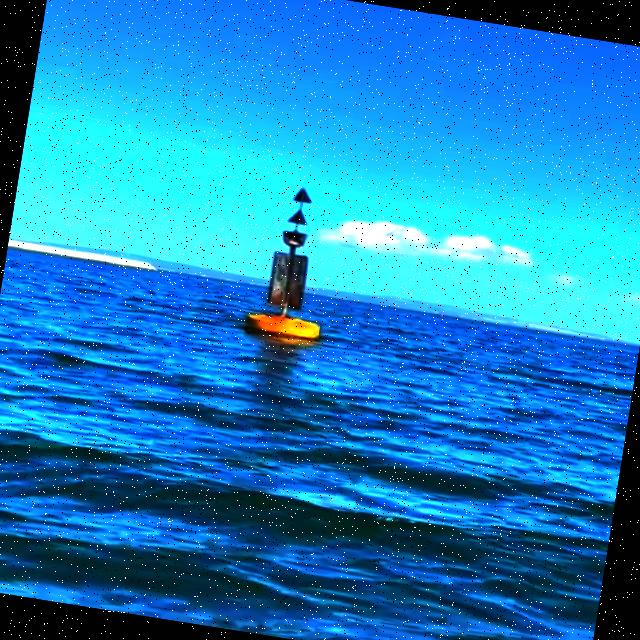marque: (240, 182, 342, 344)
